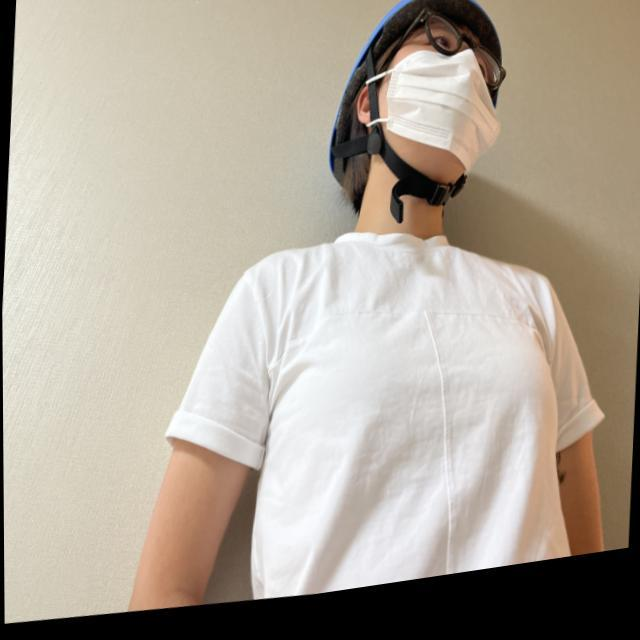Helmet: (326, 0, 509, 217)
